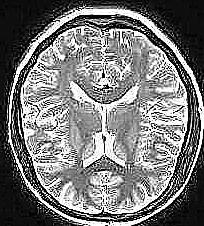Normal_Brain: (1, 1, 204, 226)
